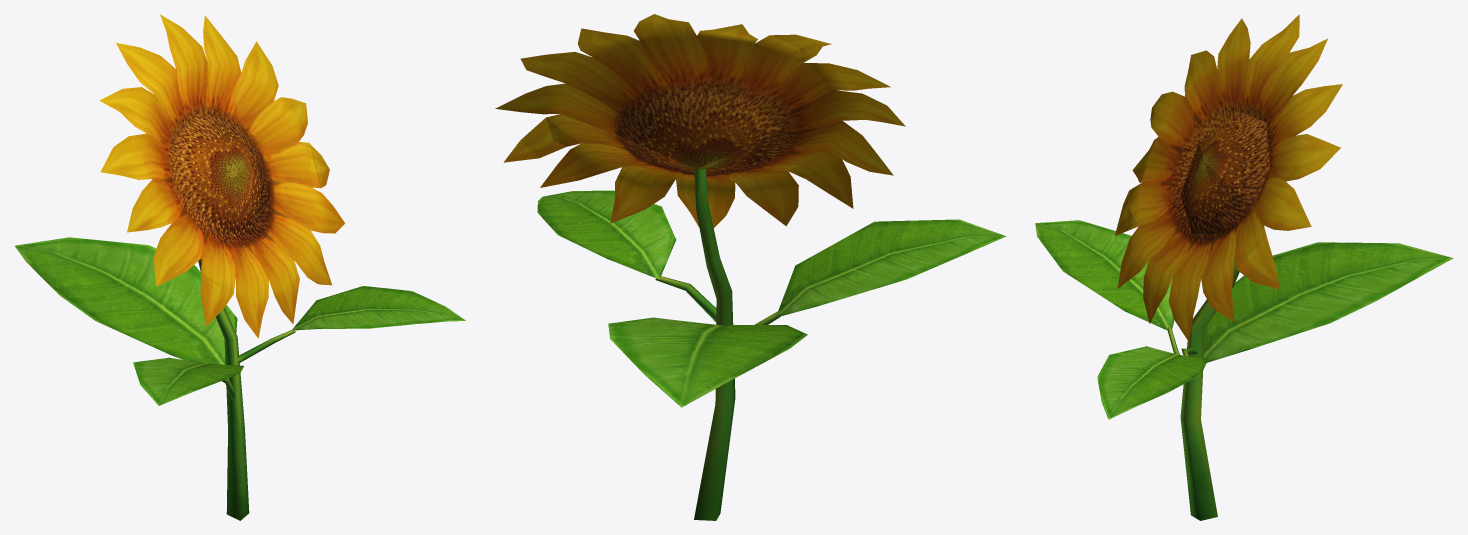
Rendered from flower_04.fbx.
The picture shows the model from 3 angles, left to right: view 1: azimuth 30°, elevation 25°; view 2: azimuth 150°, elevation 25°; view 3: azimuth 270°, elevation 25°; orthographic projection. The views are drawn at different scales.
Parts seen in each view (by area): view 1: flower_04; view 2: flower_04; view 3: flower_04.
Boxes of the visible parts, bbox=[...] form: flower_04: bbox=[15, 14, 465, 520]; flower_04: bbox=[495, 14, 1006, 520]; flower_04: bbox=[1035, 14, 1453, 520].
Size of the model in its own units: 1.36 by 1.74 by 1.4.
